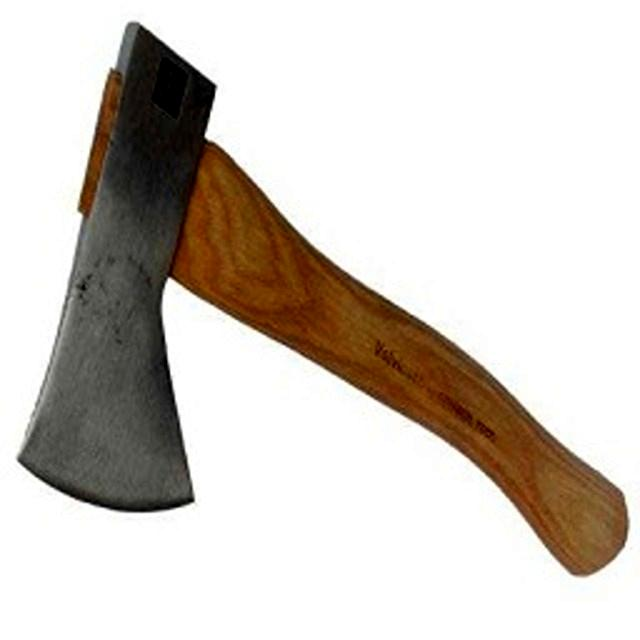ax: (19, 19, 634, 598)
